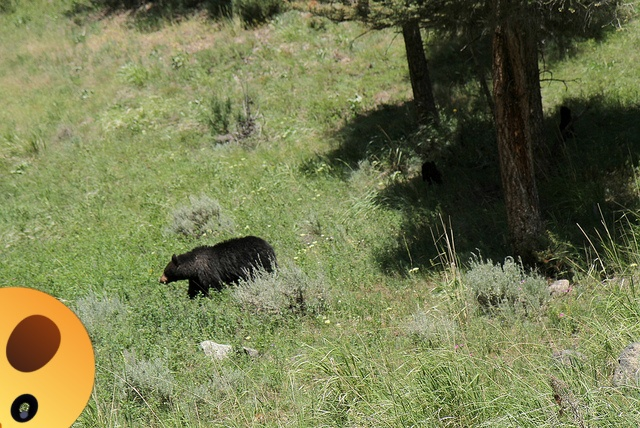wow: (0, 287, 95, 428)
